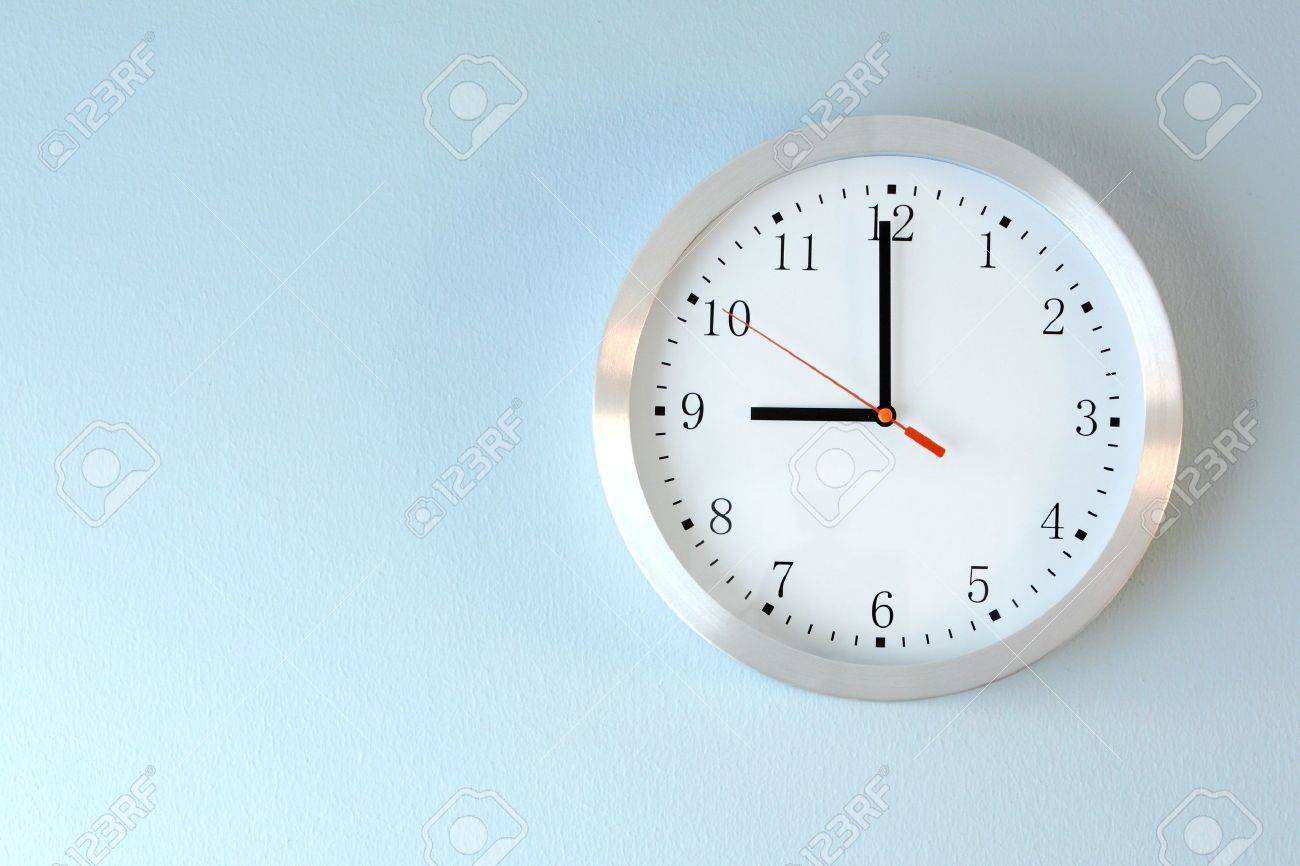clock: (641, 155, 1150, 667)
